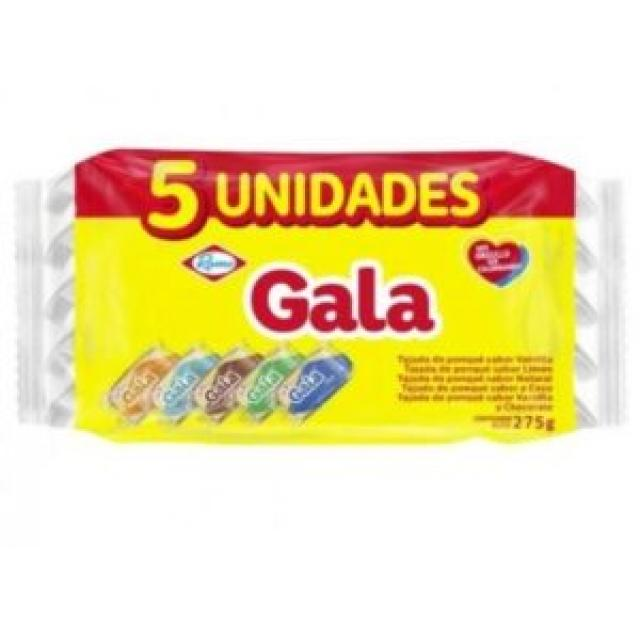Paquete: (6, 146, 615, 445)
